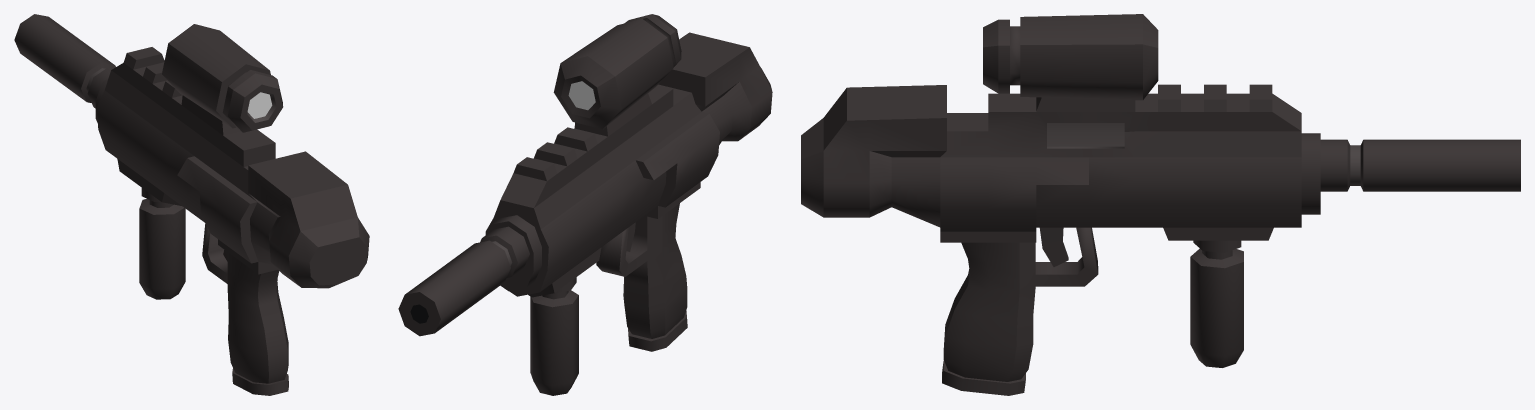
The model's file is Saber.fbx.
3 views of the same model, side by side, from view 1: azimuth 30°, elevation 25°; view 2: azimuth 150°, elevation 25°; view 3: azimuth 270°, elevation 25° (orthographic). The views are drawn at different scales.
Visible parts, largest first — view 1: Saber, SaberSupressor, SaberMagazine; view 2: Saber, SaberSupressor, SaberMagazine; view 3: Saber, SaberSupressor, SaberMagazine.
Part boxes in pixels (box(x1,y1,x2,y2)): Saber: box(95, 24, 369, 383); SaberSupressor: box(14, 14, 115, 108); SaberMagazine: box(232, 368, 288, 395); Saber: box(485, 14, 772, 395); SaberSupressor: box(398, 226, 529, 336); SaberMagazine: box(628, 310, 687, 351); Saber: box(801, 14, 1320, 381); SaberSupressor: box(1320, 139, 1520, 191); SaberMagazine: box(942, 360, 1025, 395).
Size of the model in its own units: 0.0918 by 0.3415 by 0.5977.
